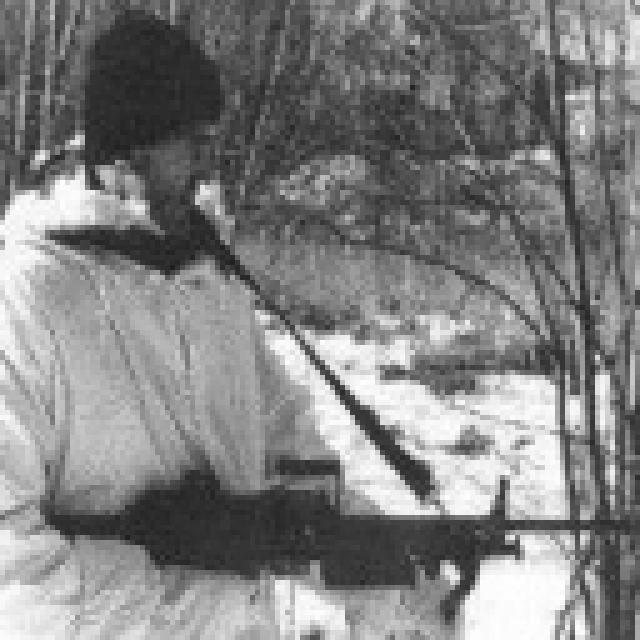Rifle: (0, 435, 640, 640)
